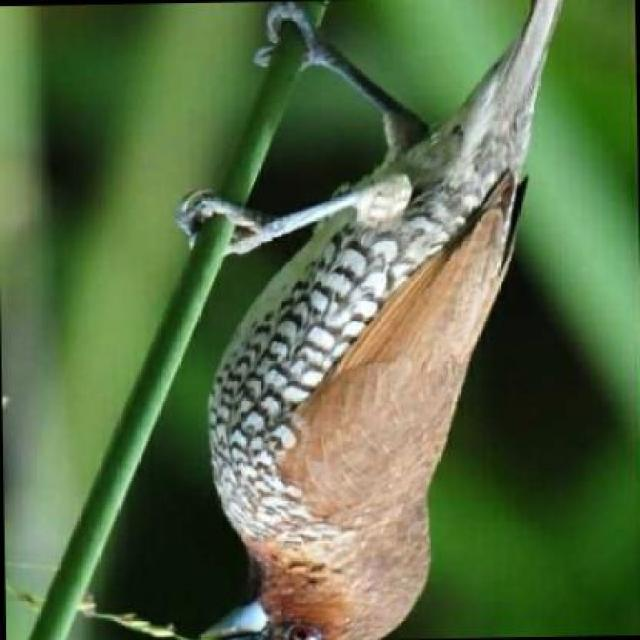Bird: (176, 2, 566, 640)
